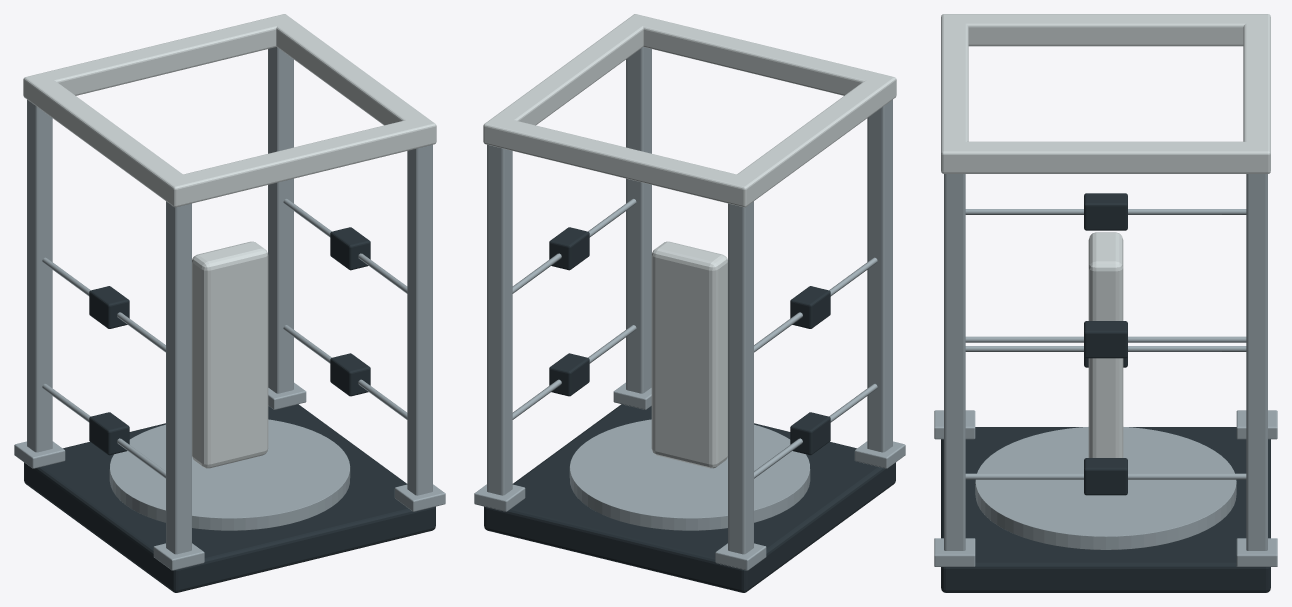
Rendered from RD_TestGantry.fbx.
3 views of the same model, side by side, from view 1: azimuth 30°, elevation 25°; view 2: azimuth 150°, elevation 25°; view 3: azimuth 270°, elevation 25° (orthographic). The views are drawn at different scales.
Parts seen in each view (by area): view 1: RD_TestGantry; view 2: RD_TestGantry; view 3: RD_TestGantry.
Boxes of the visible parts, x1=… form: RD_TestGantry: x1=14, y1=14, x2=445, y2=592; RD_TestGantry: x1=474, y1=14, x2=905, y2=592; RD_TestGantry: x1=934, y1=14, x2=1277, y2=592.
Size of the model in its own units: 250 by 355 by 250.
